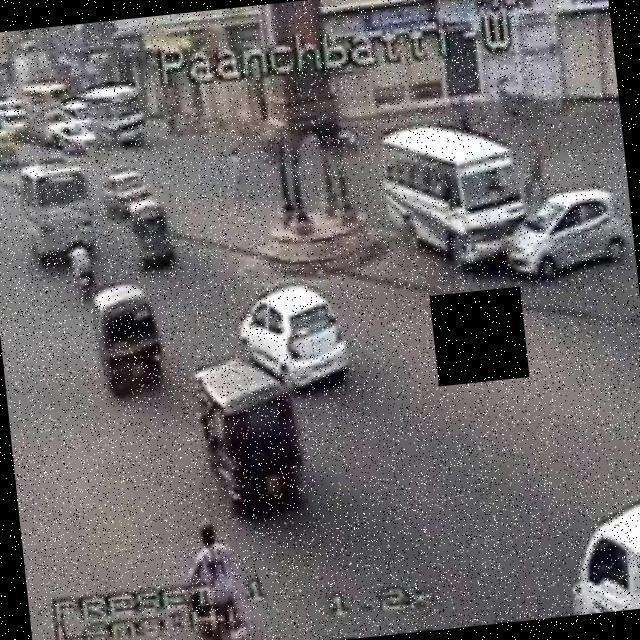accident: (372, 97, 632, 300)
